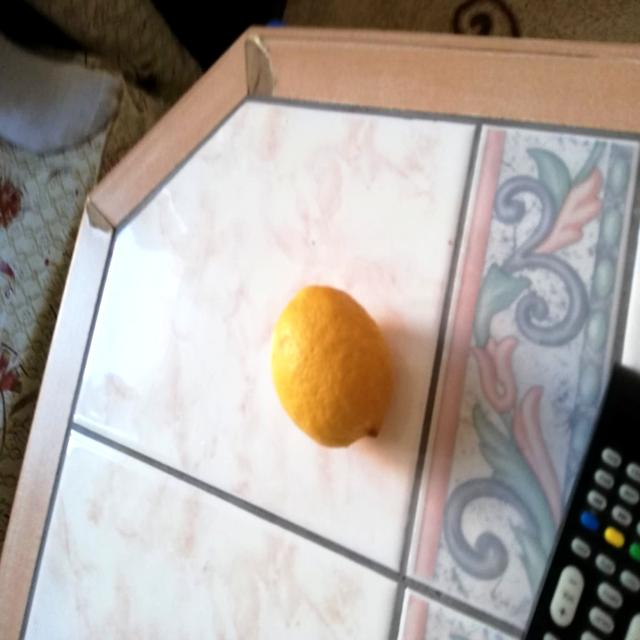lemon: (274, 278, 396, 446)
